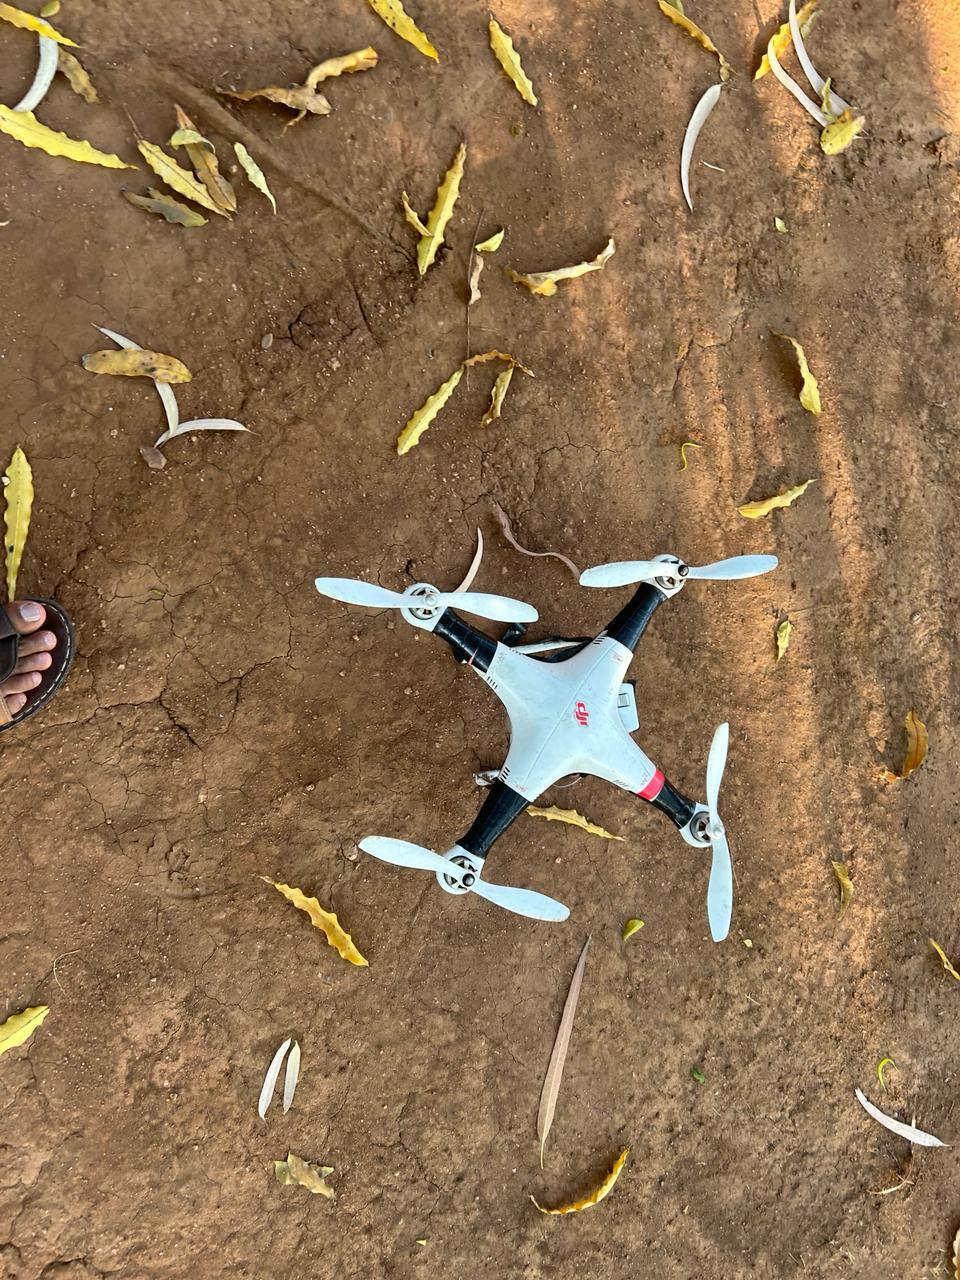drone: (291, 519, 795, 966)
